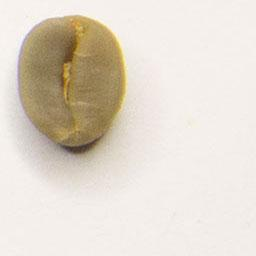premium: (15, 12, 129, 150)
